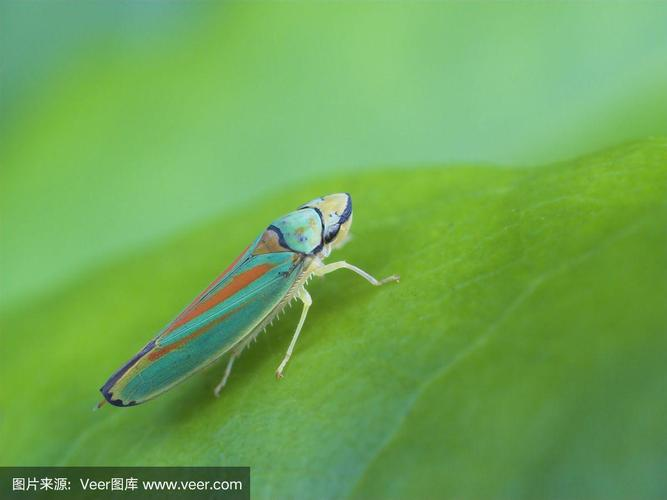Cicadellidae: (98, 192, 354, 408)
